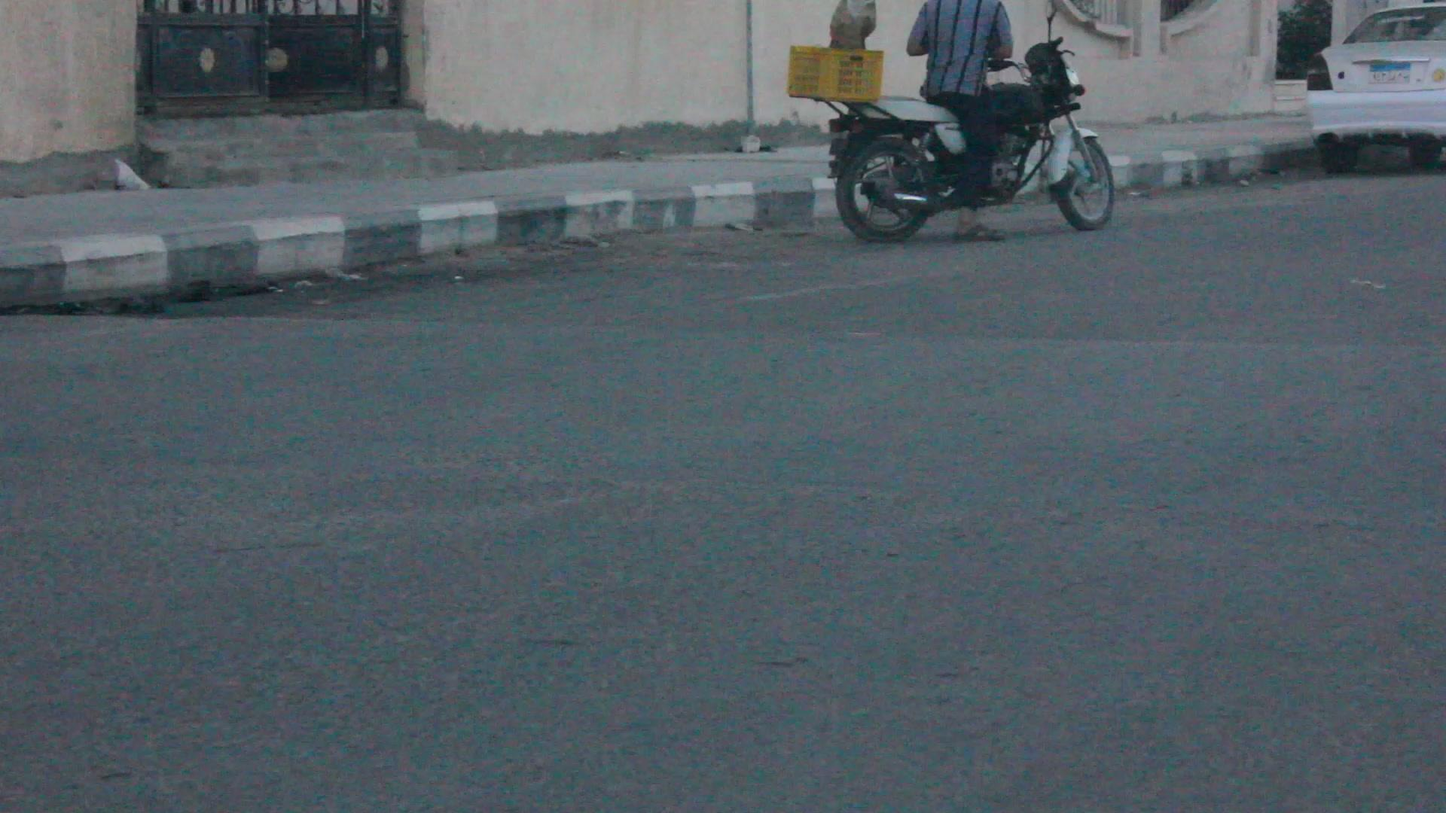Bump: (13, 301, 1446, 514)
